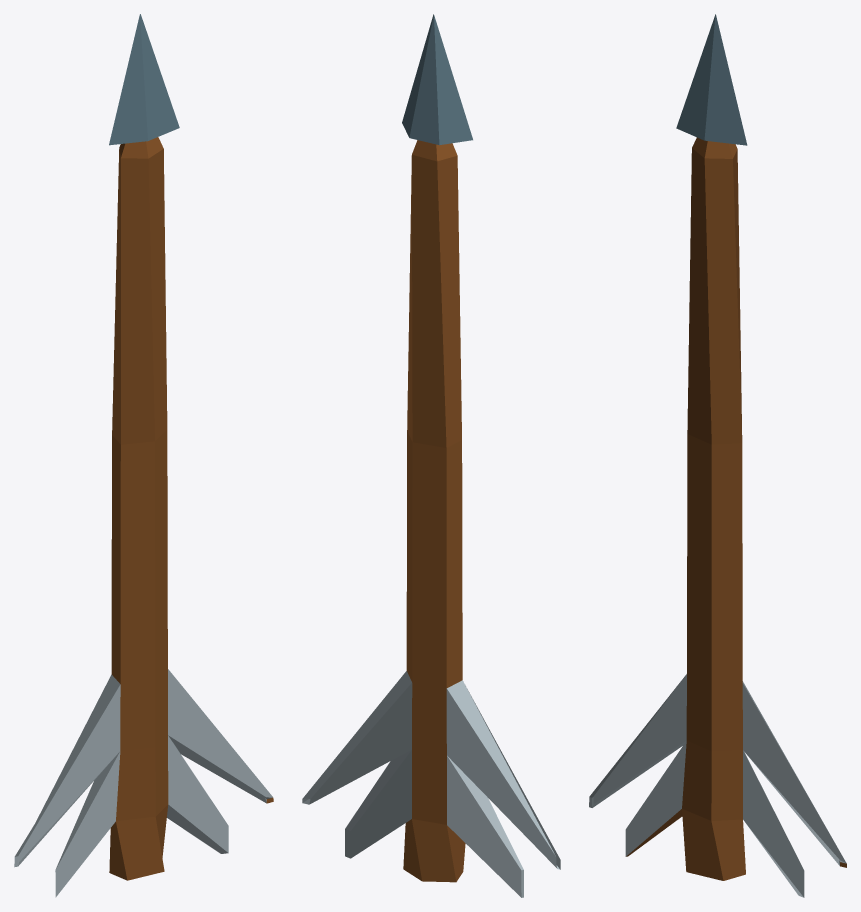
The model's file is arrow.fbx.
The picture shows the model from 3 angles, left to right: view 1: azimuth 30°, elevation 25°; view 2: azimuth 150°, elevation 25°; view 3: azimuth 330°, elevation 25°; orthographic projection.
Visible parts, largest first — view 1: Cylinder; view 2: Cylinder; view 3: Cylinder.
Part boxes in pixels (<box>): Cylinder: <box>14,14,273,897</box>; Cylinder: <box>302,14,560,897</box>; Cylinder: <box>589,14,846,897</box>.
Size of the model in its own units: 63.52 by 202 by 9.22.
